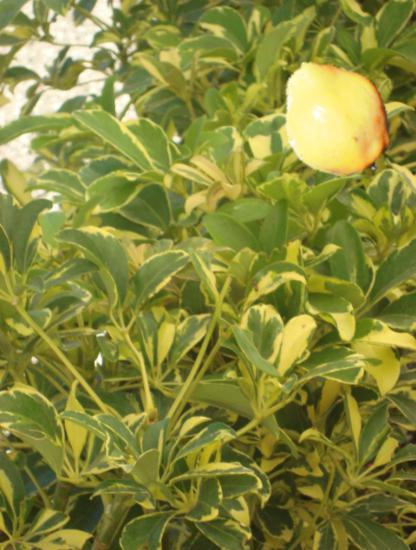Quince: (270, 54, 401, 185)
